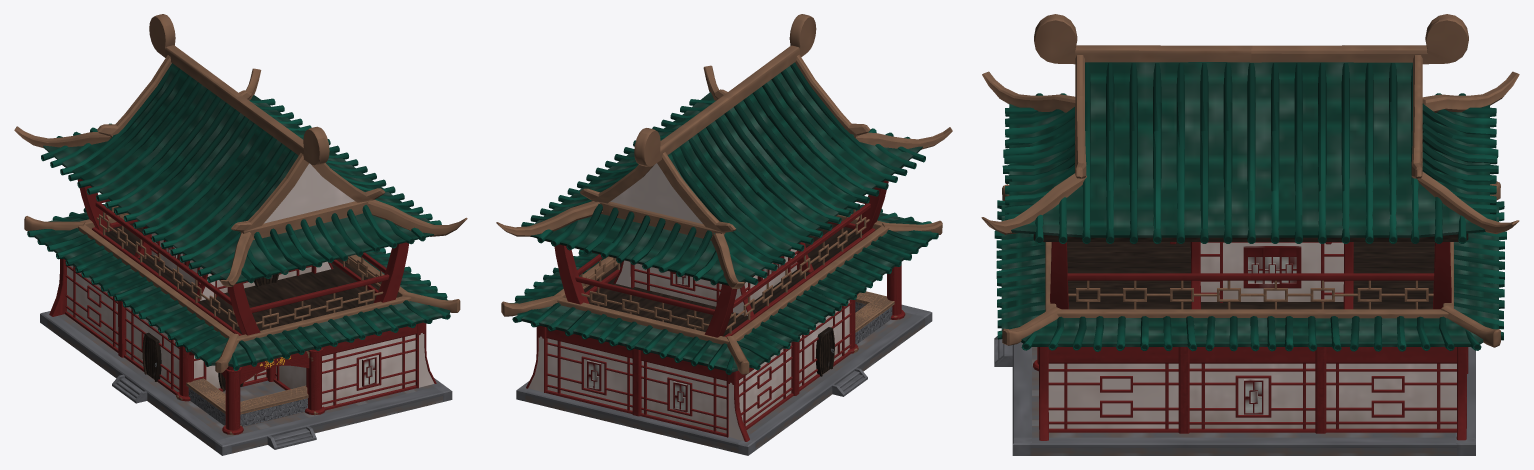
File: Building06.fbx
3 renders of one model, left to right at view 1: azimuth 30°, elevation 25°; view 2: azimuth 150°, elevation 25°; view 3: azimuth 270°, elevation 25°, orthographic. The views are drawn at different scales.
Parts seen in each view (by area): view 1: Building06_mesh_mesh; view 2: Building06_mesh_mesh; view 3: Building06_mesh_mesh.
Part boxes in pixels (x1,y1,x2,y2): Building06_mesh_mesh: (14,14,467,455); Building06_mesh_mesh: (496,14,952,455); Building06_mesh_mesh: (981,14,1519,455).
Size of the model in its own units: 138 by 150 by 200.
1 material, 1 textured.
